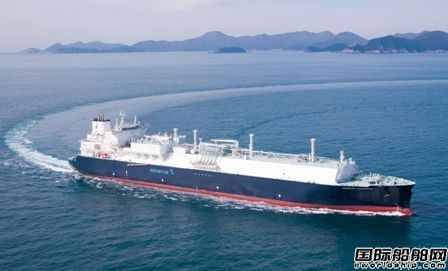Cargoship: (63, 109, 417, 217)
